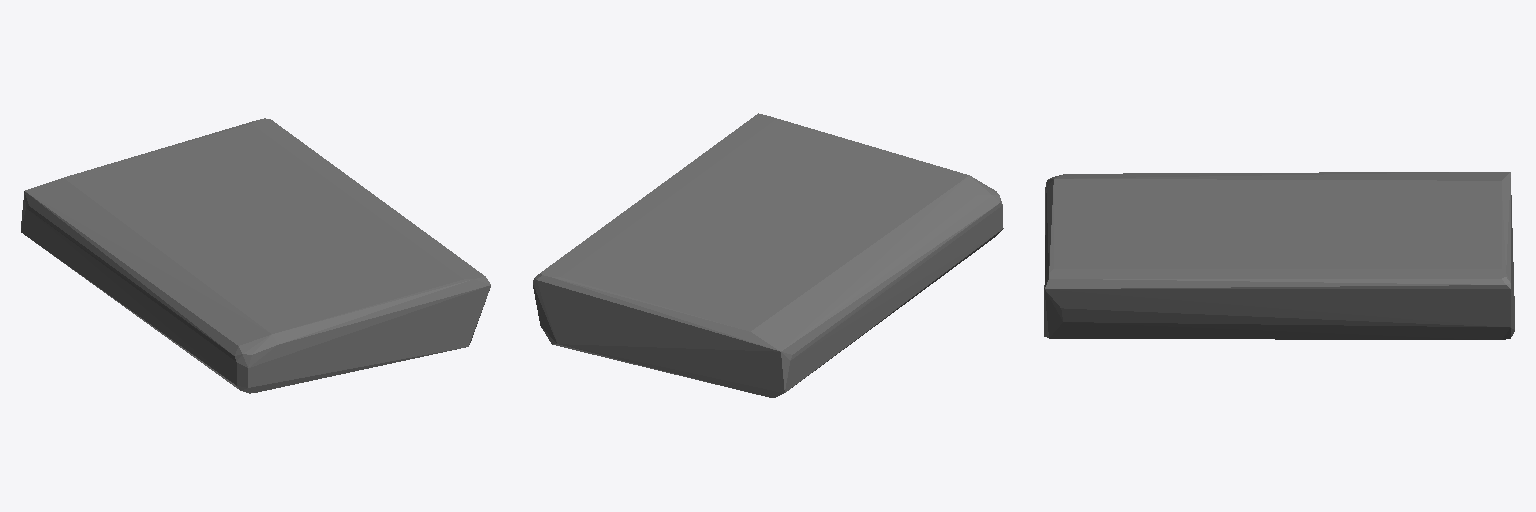
URDF robot description (book_003):
<?xml version="1.0" ?>
<robot name="book_003">
  <material name="color">
    <color rgba=".5 .5 .5 1"/>
  </material>

  <link name="base_link">
    <contact>
      <lateral_friction value="1.0"/>
      <rolling_friction value="0.001"/>
      <spinning_friction value="0.001"/>
      <inertia_scaling value="1.0"/>
    </contact>
    <inertial>
      <origin rpy="0 0 0" xyz="0.000603825 9.51509e-05 -0.00214425"/>
       <mass value="0.1"/>
       <inertia ixx="1" ixy="0" ixz="0" iyy="1" iyz="0" izz="1"/>
    </inertial>

    <visual>
      <origin rpy="0 0 0" xyz="0 0 0"/>
      <geometry>
        <mesh filename="book_003_vhacd_0_of_1.obj" scale="1 1 1"/>
      </geometry>
      <material name="color"/>
    </visual>

    <collision>
      <origin rpy="0 0 0" xyz="0 0 0"/>
      <geometry>
        <mesh filename="book_003_vhacd_0_of_1.obj" scale="1 1 1"/>
      </geometry>
    </collision>

  </link>
</robot>

--- Render facts (derived) ---
The picture shows the robot from 3 angles, left to right: view 1: azimuth 30°, elevation 25°; view 2: azimuth 150°, elevation 25°; view 3: azimuth 270°, elevation 25°; orthographic projection.
Model book_003 with 1 links and 0 joints (none), rooted at base_link, posed every joint at zero.
Visible links, largest first — view 1: base_link; view 2: base_link; view 3: base_link.
Boxes of the visible links, left/top/right/bottom form: base_link: left=21, top=118, right=490, bottom=393; base_link: left=533, top=113, right=1003, bottom=397; base_link: left=1044, top=172, right=1514, bottom=339.
Size in the robot's own frame: 0.1166 by 0.181 by 0.0294 metres.
1 mesh visuals loaded from 1 distinct referenced files (1 OBJ).